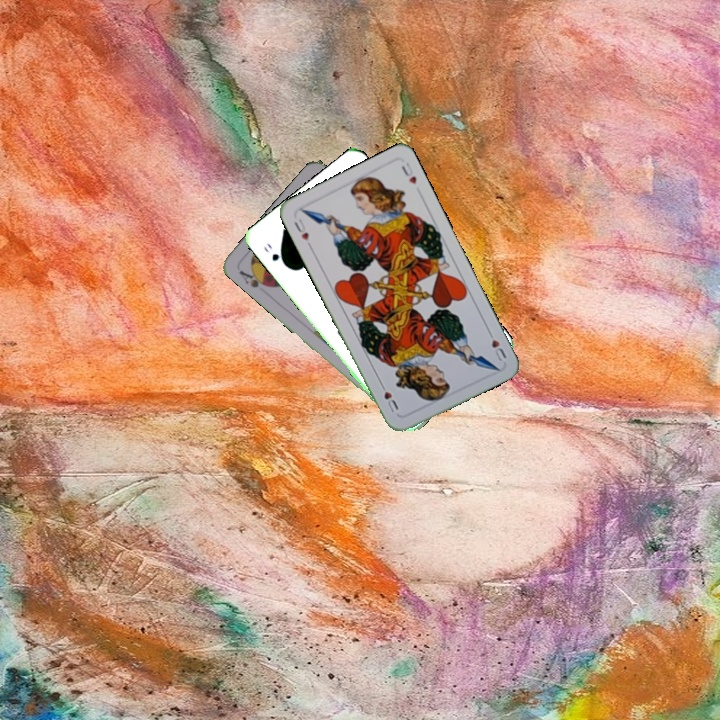GO: (259, 238, 290, 269)
HU: (484, 326, 509, 364), (290, 215, 314, 250)
SA: (235, 266, 273, 290)
